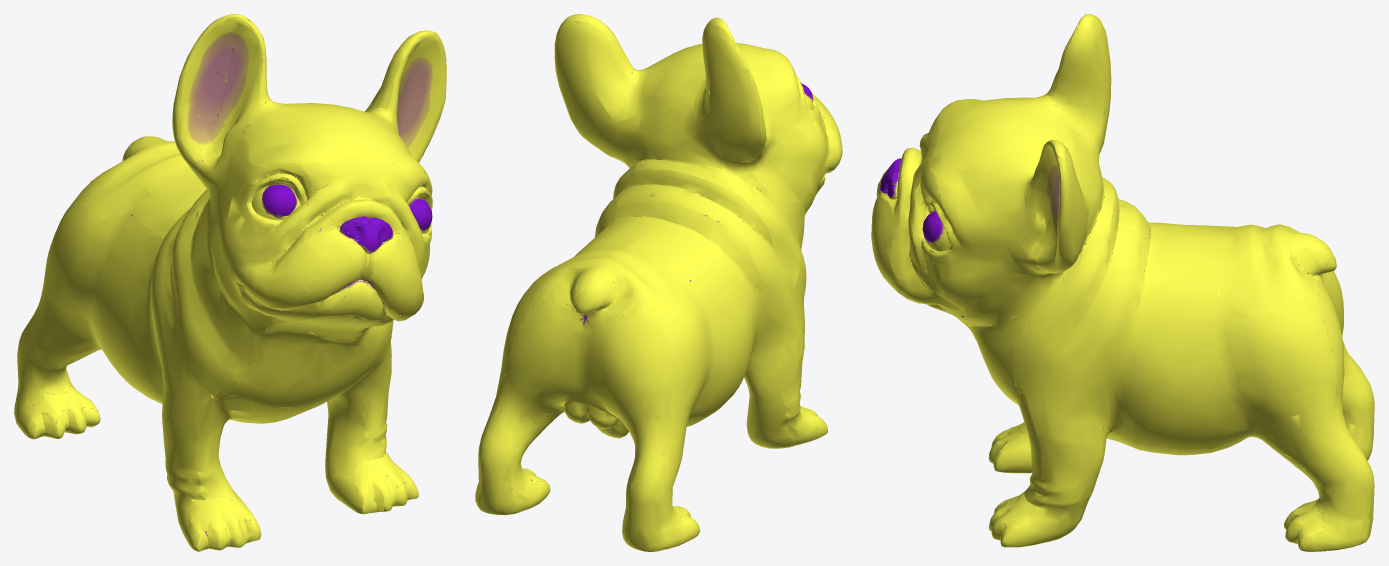
Rendered from yorbie-small.glb.
3 renders of one model, left to right at view 1: azimuth 30°, elevation 25°; view 2: azimuth 150°, elevation 25°; view 3: azimuth 270°, elevation 25°, orthographic. The views are drawn at different scales.
Visible parts, largest first — view 1: QFrench Solid; view 2: QFrench Solid; view 3: QFrench Solid.
Boxes of the visible parts, x1,y1,x2,y2 form: QFrench Solid: (14,14,446,551); QFrench Solid: (475,14,842,551); QFrench Solid: (871,14,1374,551).
Size of the model in its own units: 74.53 by 119 by 116.
1 material, 1 textured.
